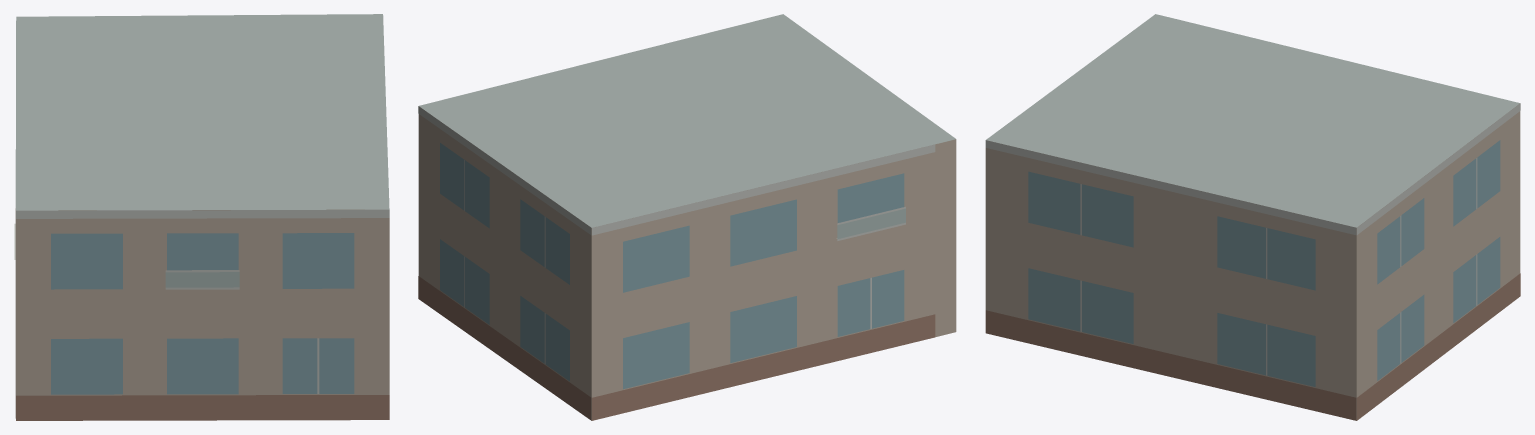
File: survey-upis-33004902.glb
3 views of the same model, side by side, from view 1: azimuth 30°, elevation 25°; view 2: azimuth 150°, elevation 25°; view 3: azimuth 270°, elevation 25° (orthographic). The views are drawn at different scales.
Visible parts, largest first — view 1: survey-upis-33004902.tmp; view 2: survey-upis-33004902.tmp; view 3: survey-upis-33004902.tmp.
Part boxes in pixels (x1=…): survey-upis-33004902.tmp: x1=14, y1=14, x2=389, y2=420; survey-upis-33004902.tmp: x1=418, y1=14, x2=956, y2=420; survey-upis-33004902.tmp: x1=985, y1=14, x2=1520, y2=420.
Size of the model in its own units: 14.48 by 6.1 by 15.31.
